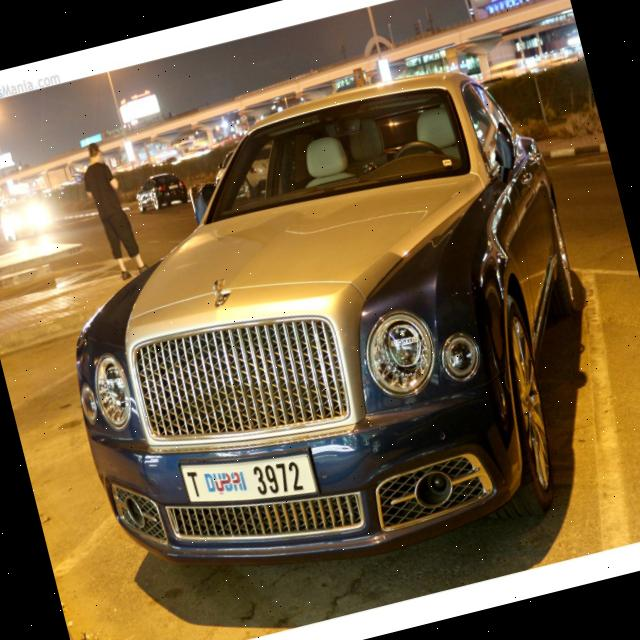License-plate: (178, 434, 321, 532)
